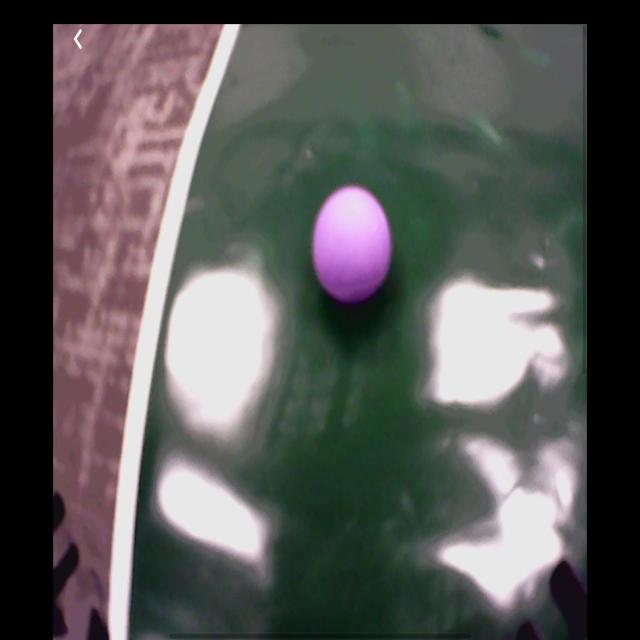ball: (312, 183, 392, 301)
